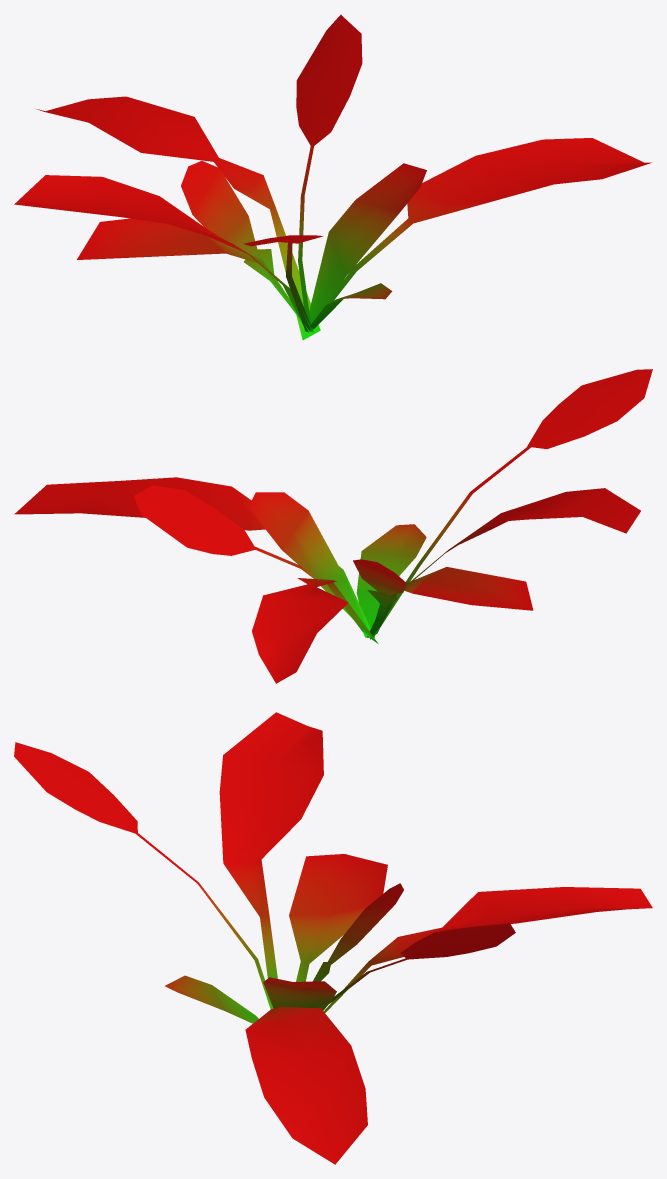
The model's file is Var19_LOD2.fbx.
The picture shows the model from 3 angles, top to bottom: view 1: azimuth 30°, elevation 25°; view 2: azimuth 150°, elevation 25°; view 3: azimuth 270°, elevation 25°; orthographic projection. The views are drawn at different scales.
Visible parts, largest first — view 1: _gyfv_Var19_LOD2; view 2: _gyfv_Var19_LOD2; view 3: _gyfv_Var19_LOD2.
Part boxes in pixels (<box>): _gyfv_Var19_LOD2: <box>14,14,651,339</box>; _gyfv_Var19_LOD2: <box>14,369,652,683</box>; _gyfv_Var19_LOD2: <box>14,712,652,1164</box>.
Size of the model in its own units: 30.22 by 10.58 by 26.03.
